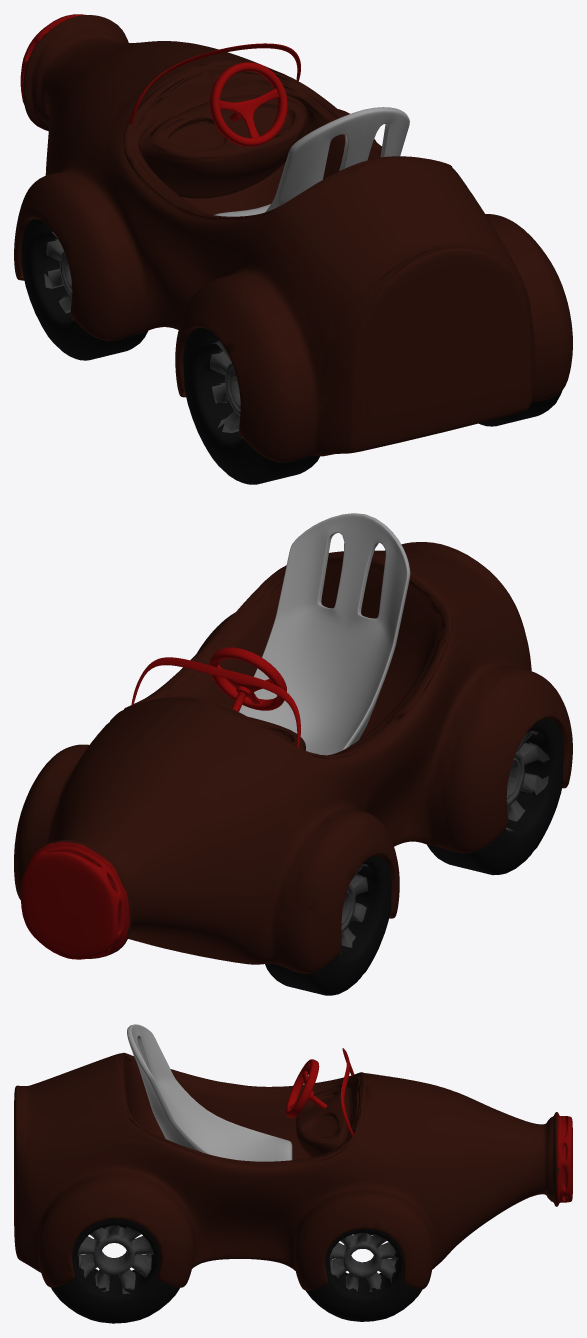
File: bottle2.FBX
3 views of the same model, one above another, from view 1: azimuth 30°, elevation 25°; view 2: azimuth 150°, elevation 25°; view 3: azimuth 270°, elevation 25° (orthographic). The views are drawn at different scales.
Visible parts, largest first — view 1: Group19929, Group833, Line001, Cylinder001, Group2990; view 2: Group19929, Line001, Group833, Cylinder001, Group2990; view 3: Group19929, Group833, Line001, Cylinder001, Group2990.
Boxes of the visible parts, bbox=[...] form: Group19929: bbox=[14, 14, 572, 462]; Group833: bbox=[21, 219, 561, 484]; Line001: bbox=[214, 107, 409, 216]; Cylinder001: bbox=[210, 62, 287, 146]; Group2990: bbox=[129, 43, 300, 124]; Group19929: bbox=[14, 542, 572, 973]; Line001: bbox=[239, 513, 410, 755]; Group833: bbox=[265, 719, 563, 995]; Cylinder001: bbox=[209, 647, 286, 710]; Group2990: bbox=[131, 657, 300, 747]; Group19929: bbox=[14, 1052, 572, 1290]; Group833: bbox=[51, 1218, 422, 1323]; Line001: bbox=[127, 1024, 292, 1161]; Cylinder001: bbox=[286, 1059, 319, 1118]; Group2990: bbox=[340, 1048, 354, 1135].
Bounding box in the file's own units: 122 × 242 × 116.
